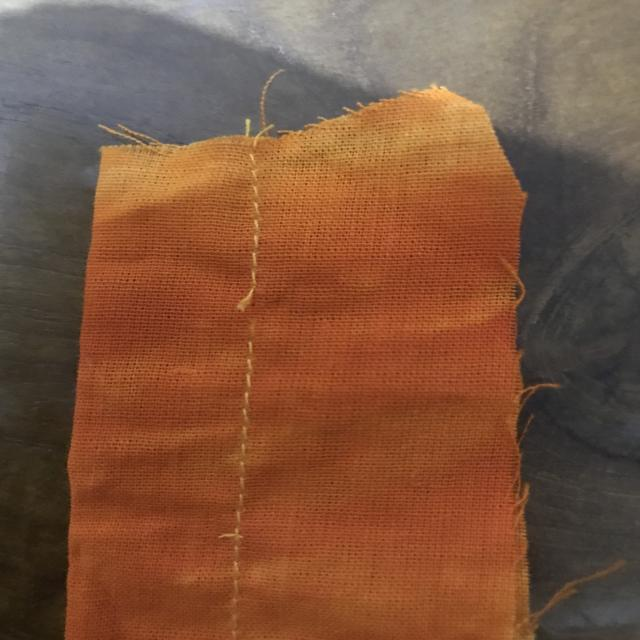broken: (226, 275, 268, 357)
good: (235, 183, 277, 251), (235, 380, 261, 485)
